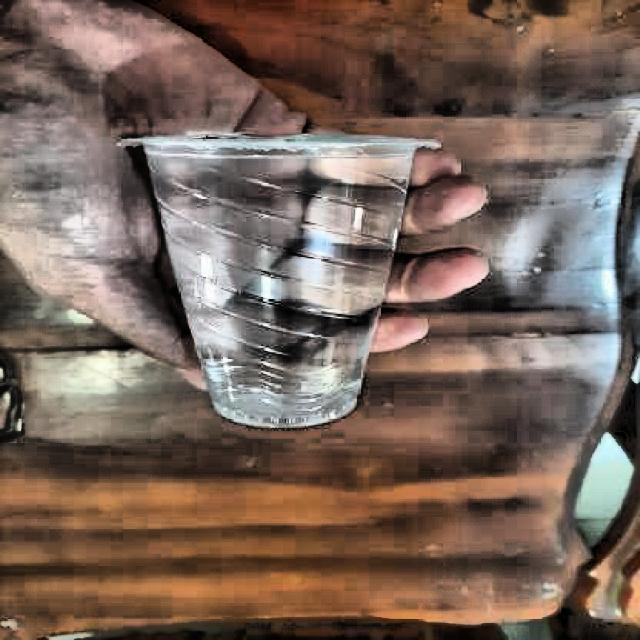Plastico descartable: (116, 134, 438, 433)
